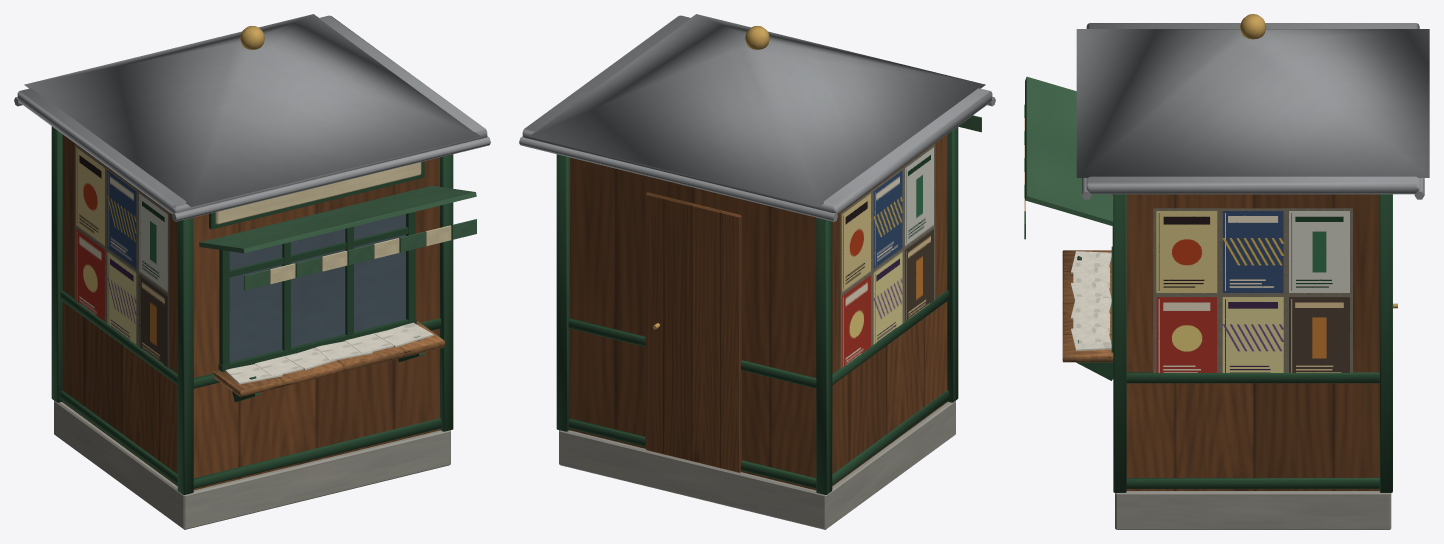
File: OB_Kiosk.fbx
3 views of the same model, side by side, from view 1: azimuth 30°, elevation 25°; view 2: azimuth 150°, elevation 25°; view 3: azimuth 270°, elevation 25° (orthographic). The views are drawn at different scales.
Parts seen in each view (by area): view 1: Kiosk, Plakaty; view 2: Kiosk, Plakaty; view 3: Kiosk, Plakaty.
Part boxes in pixels (box(x1,y1,x2,y2)): Kiosk: box(14, 14, 490, 529); Plakaty: box(74, 144, 169, 368); Kiosk: box(519, 14, 995, 529); Plakaty: box(840, 144, 935, 368); Kiosk: box(1024, 14, 1429, 529); Plakaty: box(1153, 208, 1352, 372).
Bounding box in the file's own units: 2.3 × 2.96 × 2.44.
